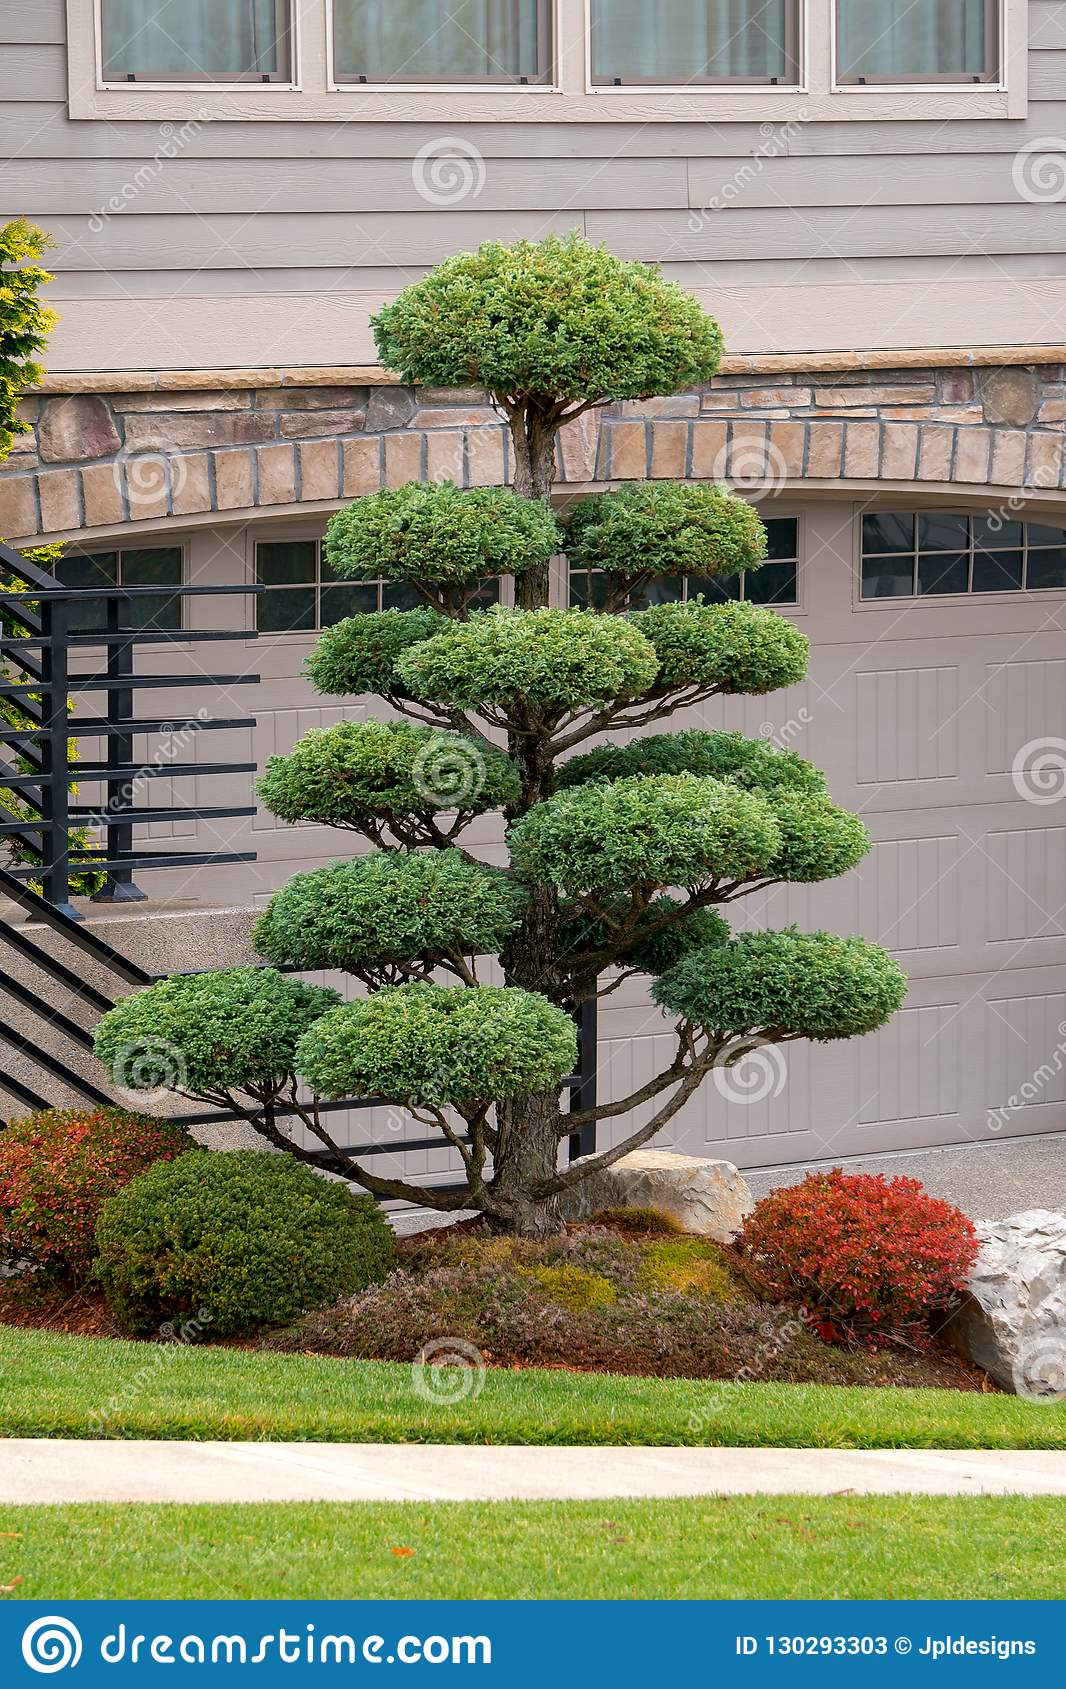tree: (95, 241, 905, 1204)
